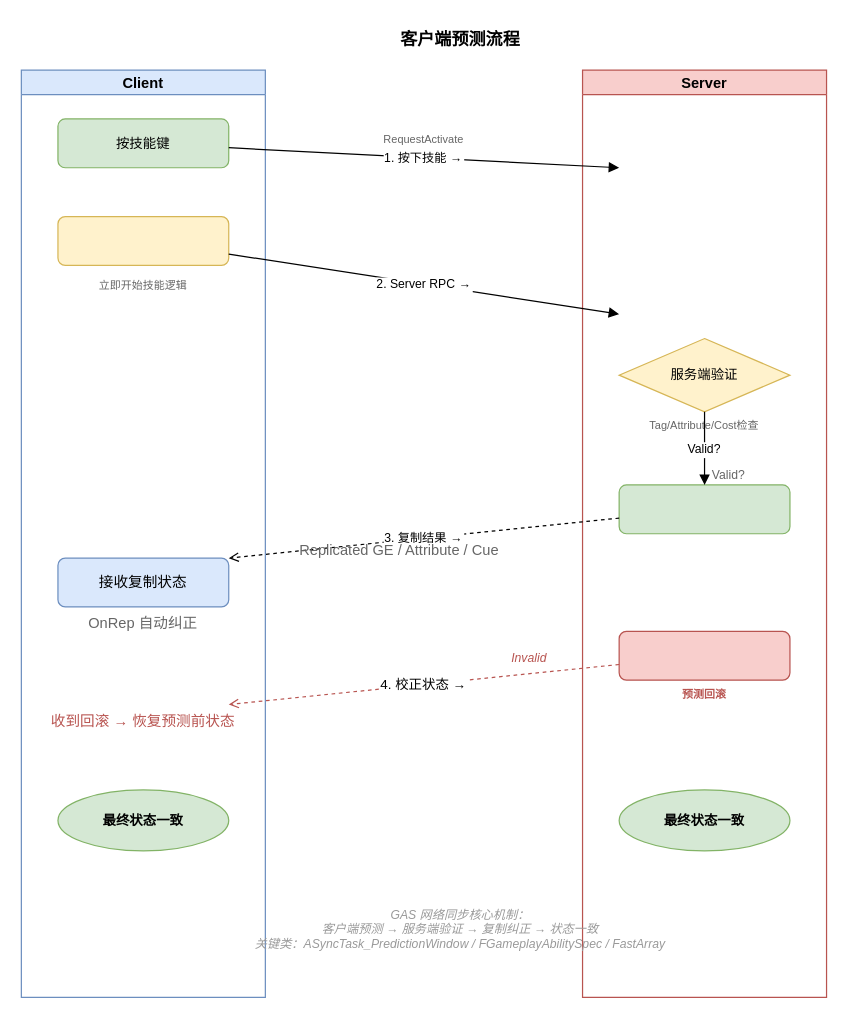
The diagram is 848 pixels wide and 1019 high, and some of its shapes have lost their labels. Here are the shapes that lost their labels. From the top down, the centre of each, then its label:
At (143,240): "本地预测激活".
At (704,509): "执行技能".
At (704,655): "验证失败".
